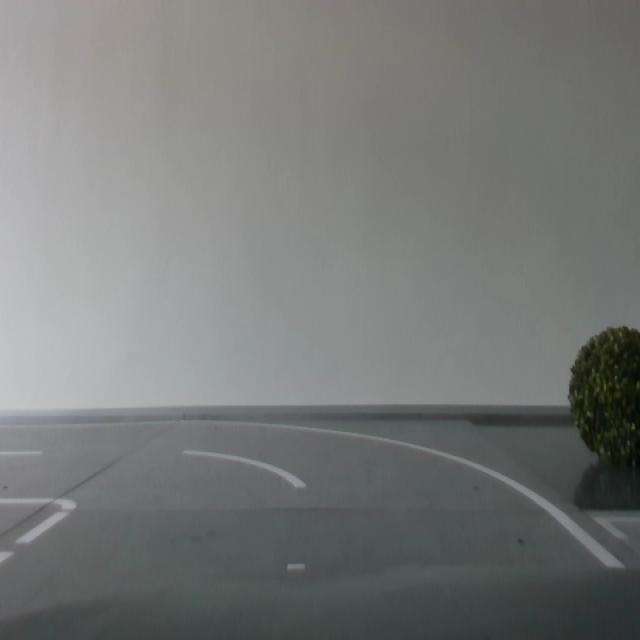potted plant: (567, 323, 640, 476)
